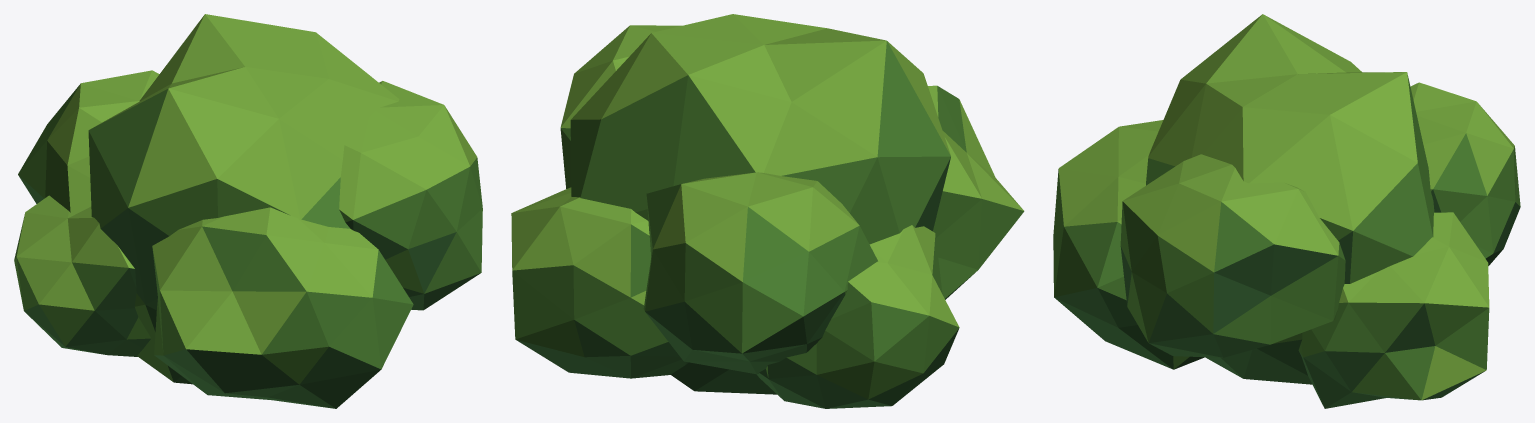
The model's file is F07_RoundBushMedium.glb.
The picture shows the model from 3 angles, left to right: view 1: azimuth 30°, elevation 25°; view 2: azimuth 150°, elevation 25°; view 3: azimuth 270°, elevation 25°; orthographic projection. The views are drawn at different scales.
Parts seen in each view (by area): view 1: F07_RoundBushMedium; view 2: F07_RoundBushMedium; view 3: F07_RoundBushMedium.
Part boxes in pixels (bbox=[...]): F07_RoundBushMedium: bbox=[14, 14, 482, 408]; F07_RoundBushMedium: bbox=[511, 14, 1024, 408]; F07_RoundBushMedium: bbox=[1053, 14, 1520, 408].
Size of the model in its own units: 1.86 by 1.37 by 1.95.
